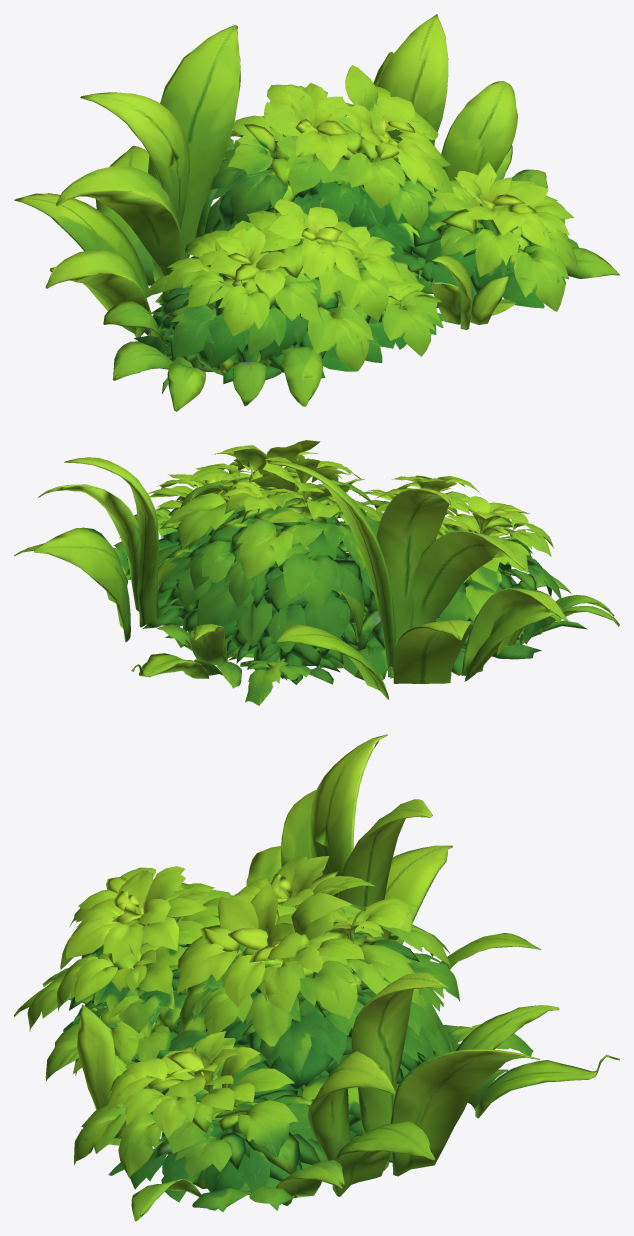
Rendered from Meshy_AI_Lush_Garden_Foliage_1024231150_texture.fbx.
3 views of the same model, one above another, from view 1: azimuth 30°, elevation 25°; view 2: azimuth 150°, elevation 25°; view 3: azimuth 270°, elevation 25° (orthographic). The views are drawn at different scales.
Visible parts, largest first — view 1: Mesh_0; view 2: Mesh_0; view 3: Mesh_0.
Part boxes in pixels (x1,y1,x2,y2): Mesh_0: [14, 14, 619, 411]; Mesh_0: [14, 440, 619, 705]; Mesh_0: [14, 734, 619, 1221].
Size of the model in its own units: 95.07 by 39.7 by 81.1.
1 material, 1 textured.
